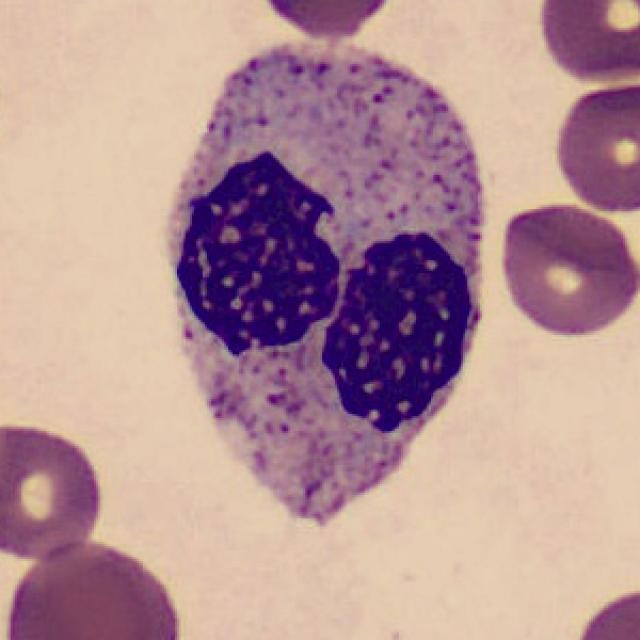WBC: (113, 39, 489, 548)
